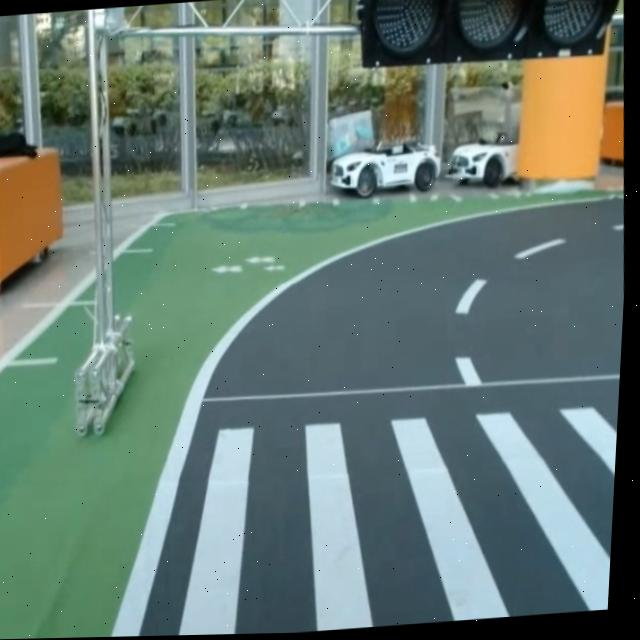traffic-light: (351, 0, 625, 75)
